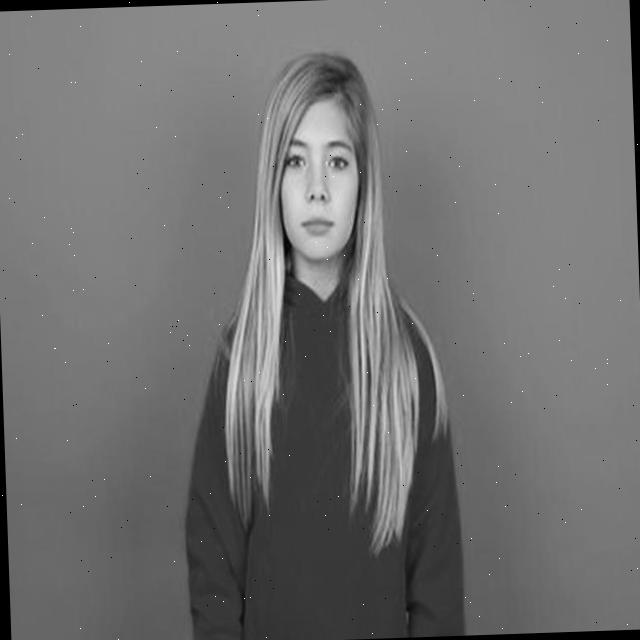Neutral: (278, 99, 360, 258)
